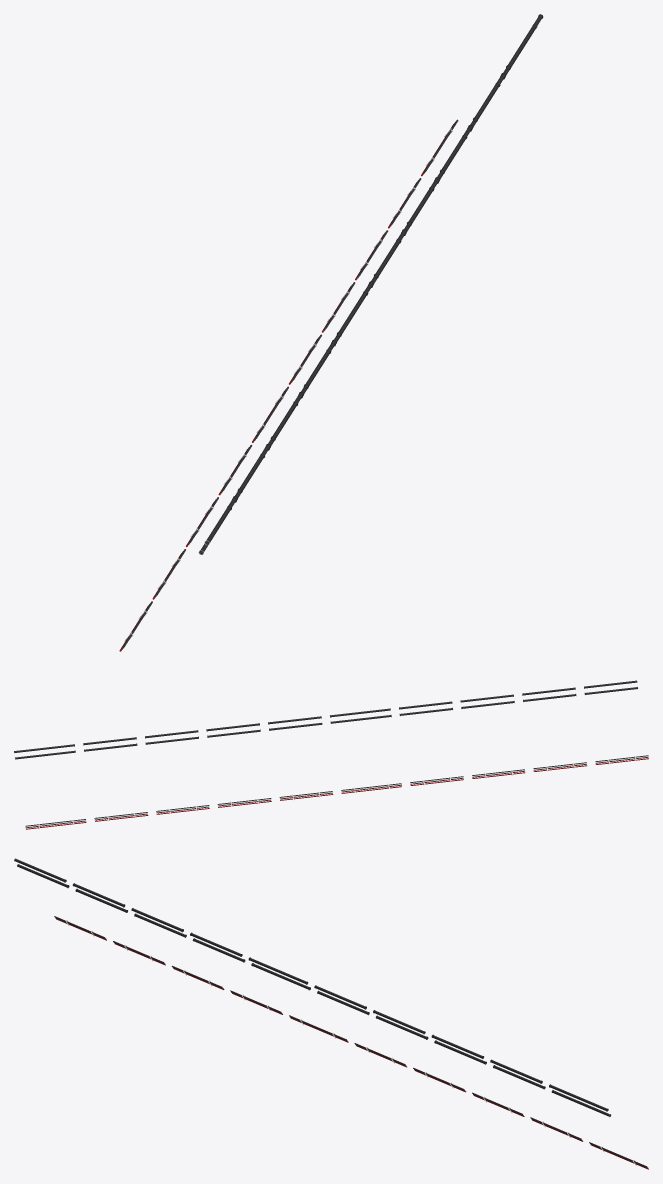
Rendered from SM_H_Building_Tide_Jail_D_02d_ATLAS.fbx.
3 renders of one model, top to bottom at view 1: azimuth 30°, elevation 25°; view 2: azimuth 150°, elevation 25°; view 3: azimuth 270°, elevation 25°, orthographic. The views are drawn at different scales.
Visible parts, largest first — view 1: SM_H_Building_Tide_Jail_D_02d_ATLAS; view 2: SM_H_Building_Tide_Jail_D_02d_ATLAS; view 3: SM_H_Building_Tide_Jail_D_02d_ATLAS.
Part boxes in pixels (box(x1,y1,x2,y2)): SM_H_Building_Tide_Jail_D_02d_ATLAS: box(119, 14, 543, 651); SM_H_Building_Tide_Jail_D_02d_ATLAS: box(14, 680, 648, 829); SM_H_Building_Tide_Jail_D_02d_ATLAS: box(14, 858, 648, 1169).
Bounding box in the file's own units: 4166 × 4165 × 580.
